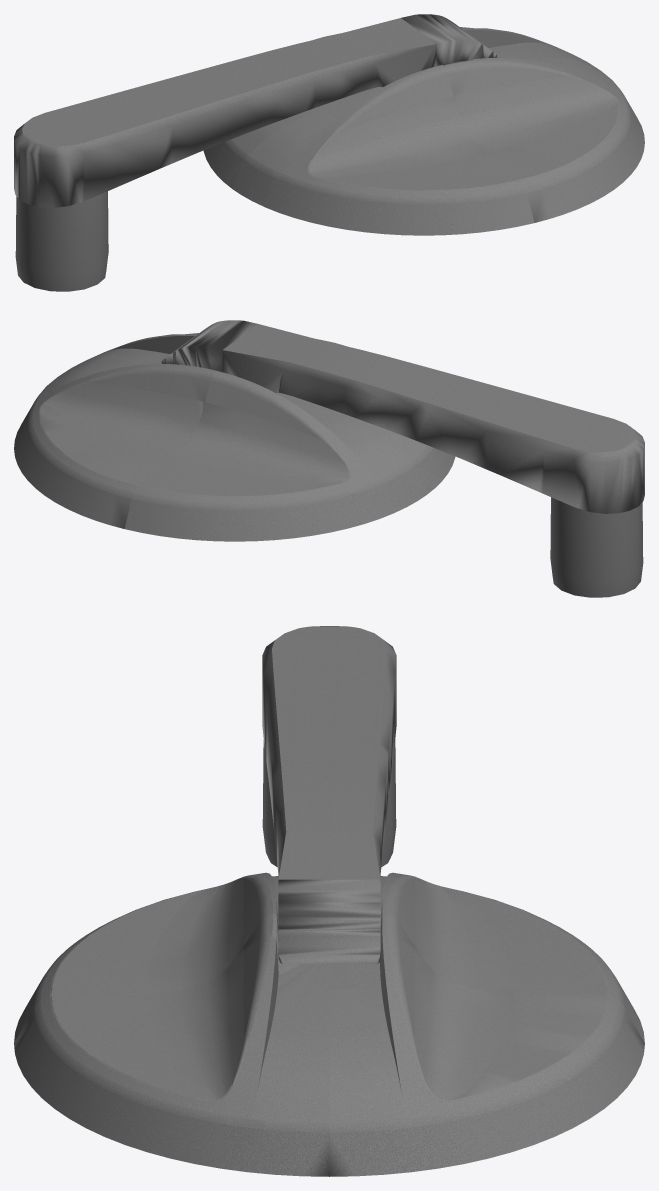
File: DL_50_Mini.glb
3 renders of one model, top to bottom at view 1: azimuth 30°, elevation 25°; view 2: azimuth 150°, elevation 25°; view 3: azimuth 270°, elevation 25°, orthographic. The views are drawn at different scales.
Visible parts, largest first — view 1: Siteco DL 50 Mini; view 2: Siteco DL 50 Mini; view 3: Siteco DL 50 Mini.
Part boxes in pixels (left/top/right/bottom): Siteco DL 50 Mini: left=14, top=14, right=644, bottom=291; Siteco DL 50 Mini: left=14, top=320, right=644, bottom=597; Siteco DL 50 Mini: left=14, top=626, right=644, bottom=1176.
Size of the model in its own units: 0.7764 by 0.1955 by 0.5.
3 materials, 3 textured.
